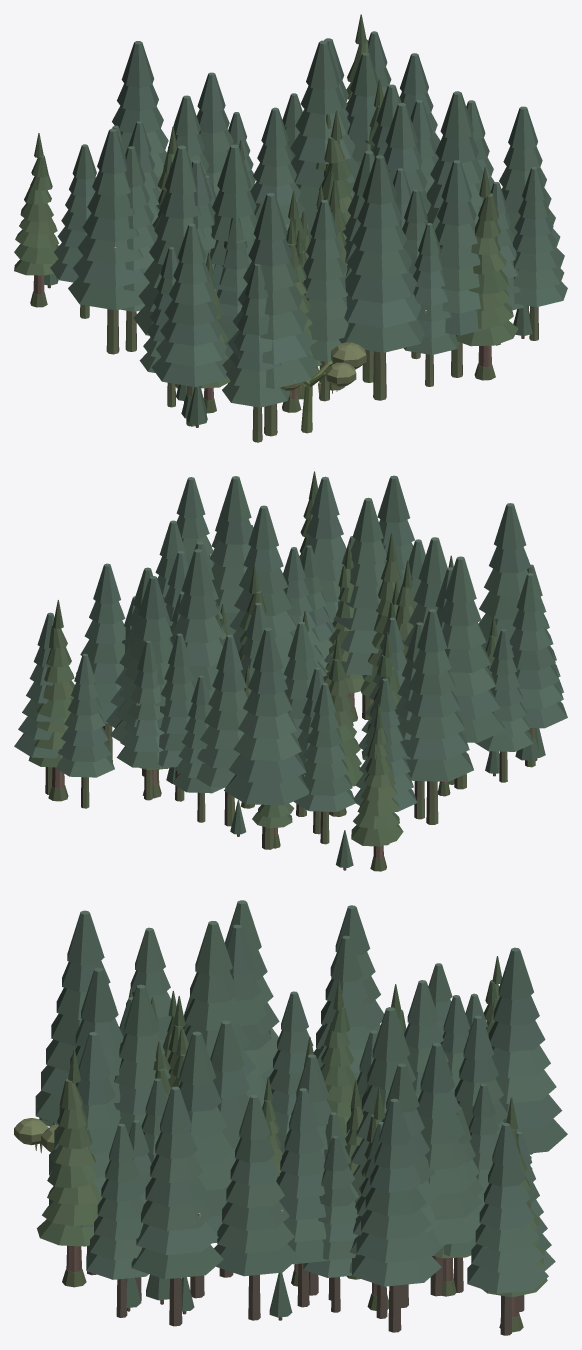
The model's file is Mist_Forest_0_3.fbx.
3 renders of one model, top to bottom at view 1: azimuth 30°, elevation 25°; view 2: azimuth 150°, elevation 25°; view 3: azimuth 270°, elevation 25°, orthographic. The views are drawn at different scales.
Parts seen in each view (by area): view 1: Mist_Forest_0_3; view 2: Mist_Forest_0_3; view 3: Mist_Forest_0_3.
Boxes of the visible parts, x1=… form: Mist_Forest_0_3: x1=14, y1=14, x2=567, y2=442; Mist_Forest_0_3: x1=14, y1=471, x2=567, y2=871; Mist_Forest_0_3: x1=14, y1=900, x2=567, y2=1335.
Size of the model in its own units: 44.16 by 25.1 by 45.82.
